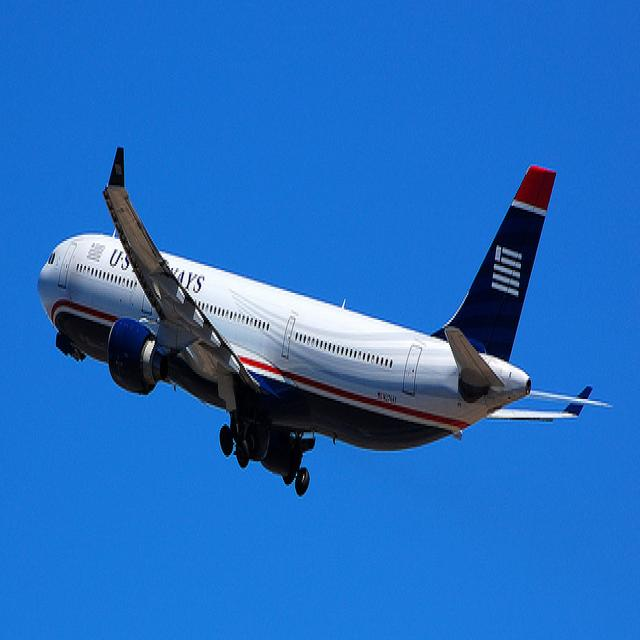airplane: (36, 144, 614, 496)
